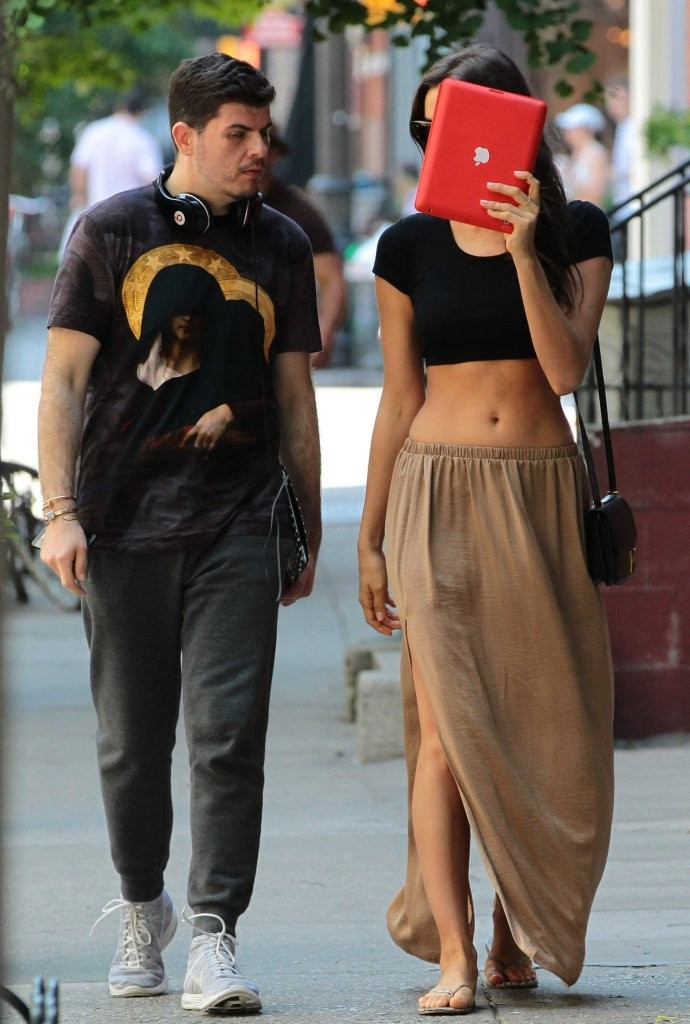Person: (35, 50, 328, 1017), (356, 42, 642, 1017)
